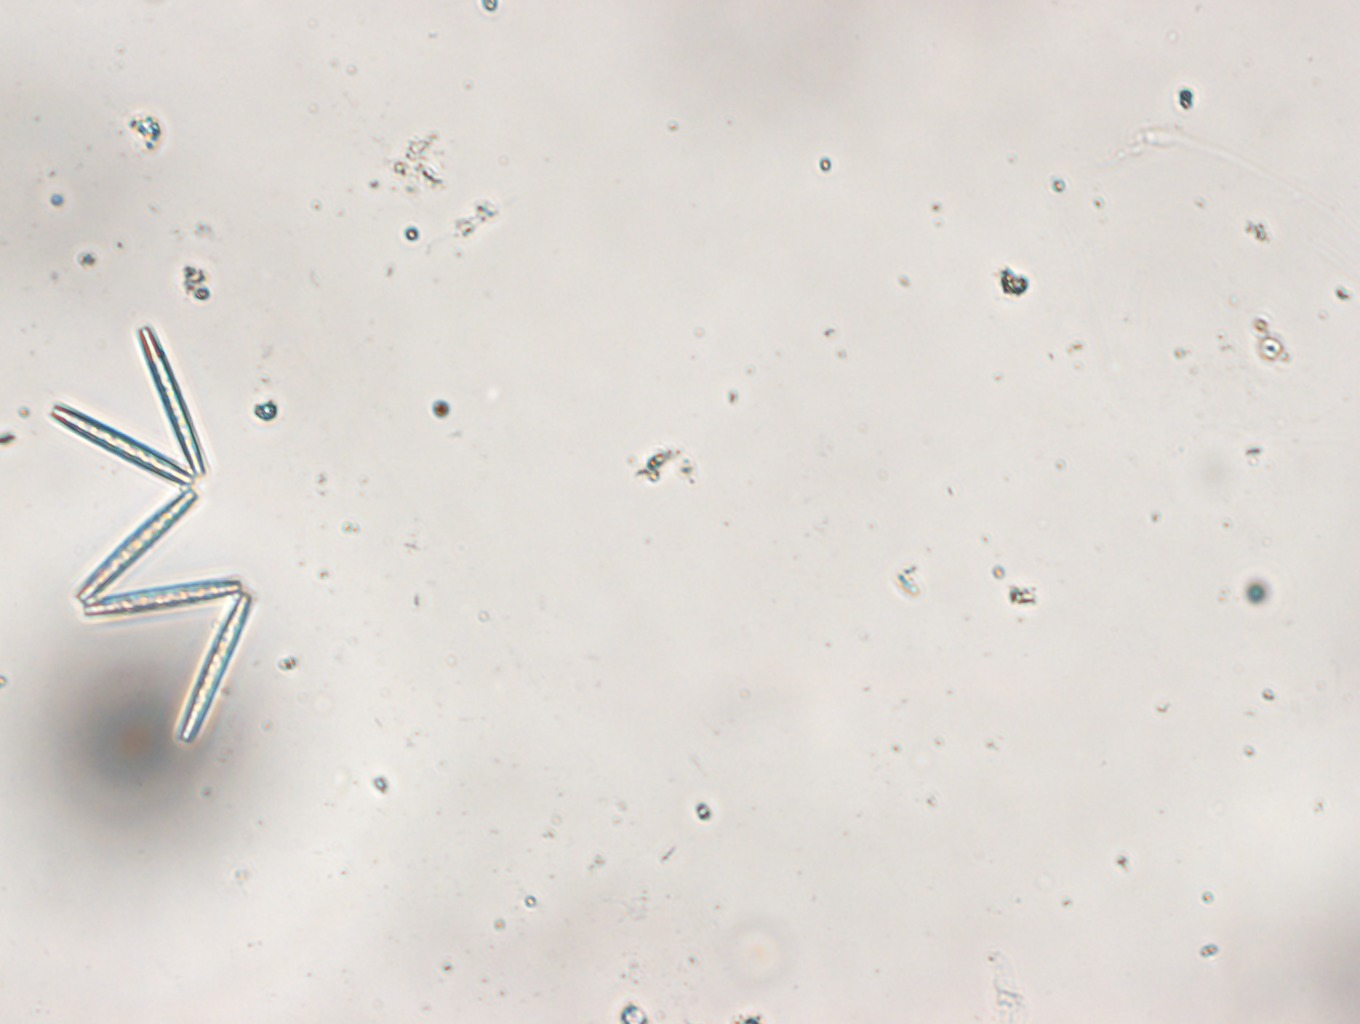thalassionema nitzschioides: (47, 321, 250, 748)
